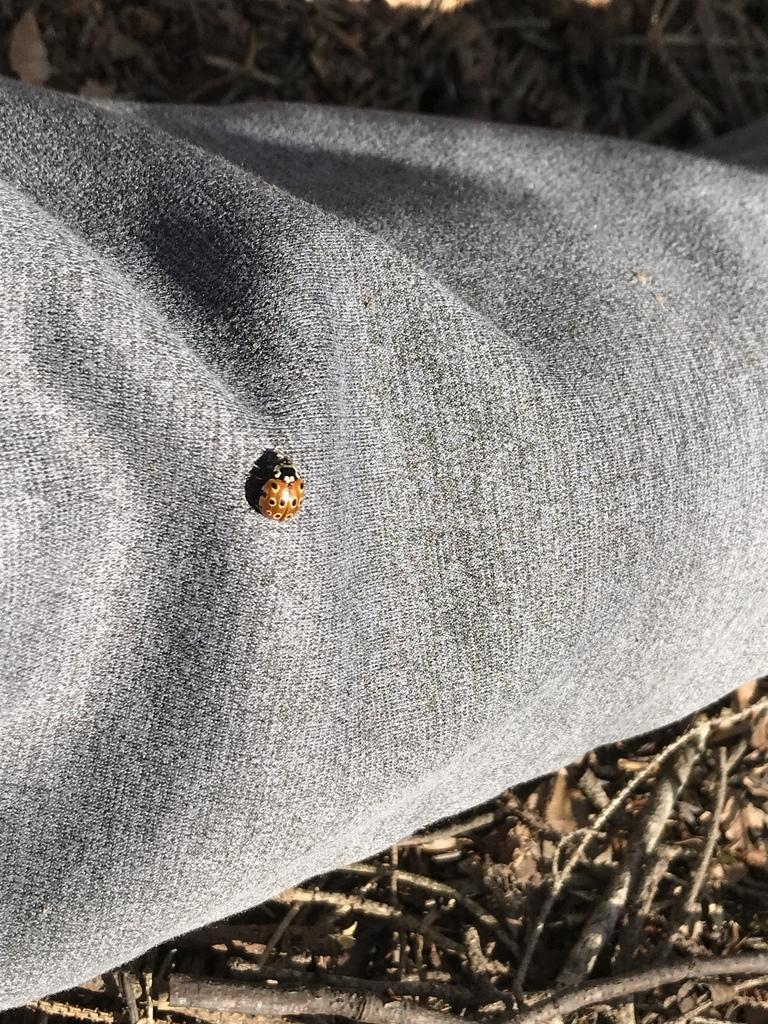ladybug: (254, 458, 308, 524)
